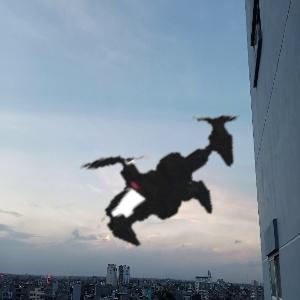drone: (37, 42, 291, 296)
